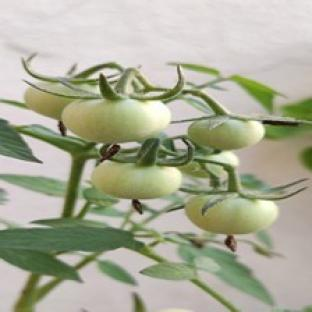Tomato: (62, 99, 171, 143), (186, 195, 278, 233), (91, 162, 182, 199), (189, 120, 264, 150), (24, 87, 72, 119), (180, 162, 224, 178), (158, 308, 192, 311)
